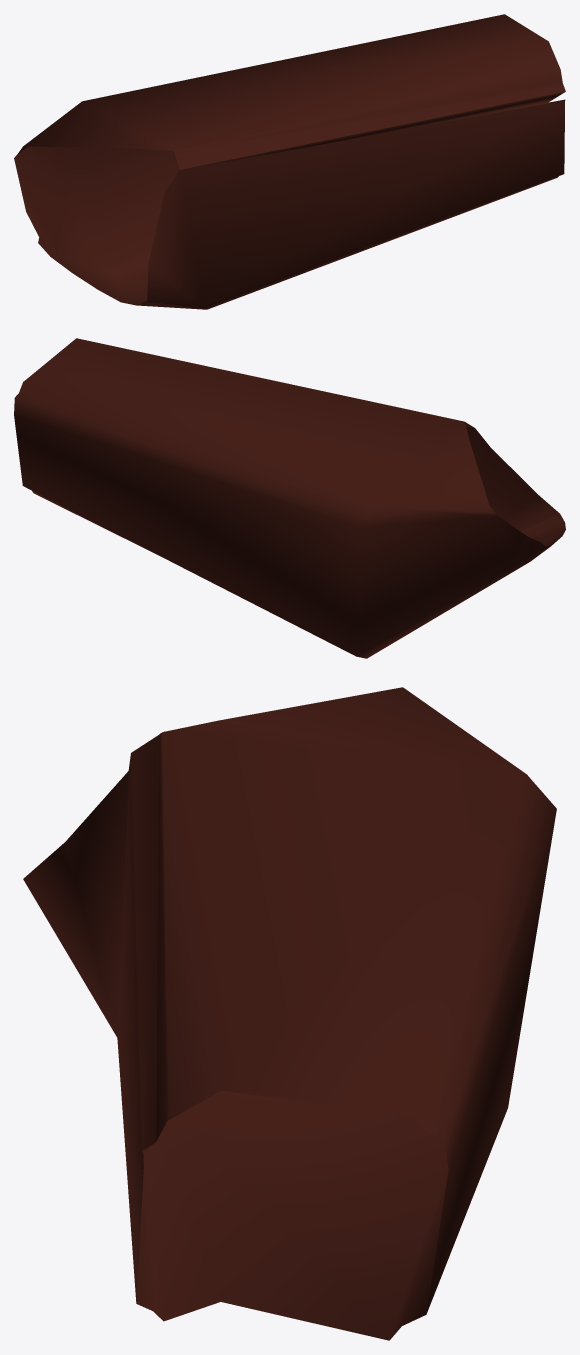
File: leg_1.dae
3 views of the same model, one above another, from view 1: azimuth 30°, elevation 25°; view 2: azimuth 150°, elevation 25°; view 3: azimuth 270°, elevation 25° (orthographic). The views are drawn at different scales.
Parts seen in each view (by area): view 1: Mesh_0.005; view 2: Mesh_0.005; view 3: Mesh_0.005.
Part boxes in pixels (x1=…): Mesh_0.005: x1=14, y1=14, x2=565, y2=309; Mesh_0.005: x1=14, y1=338, x2=565, y2=658; Mesh_0.005: x1=23, y1=687, x2=556, y2=1340.
Bounding box in the file's own units: 0.229 × 0.1092 × 0.0864.
